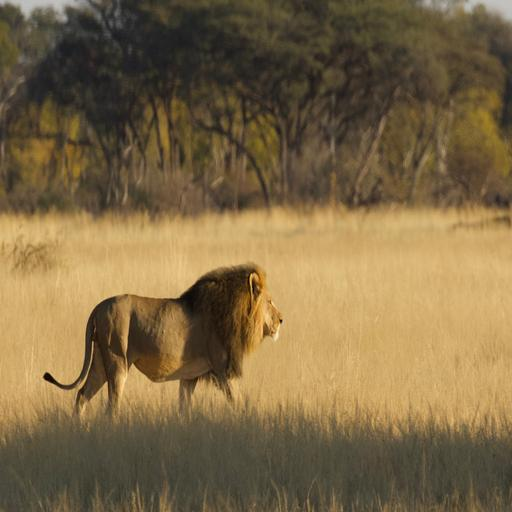Lion: (38, 253, 289, 453)
